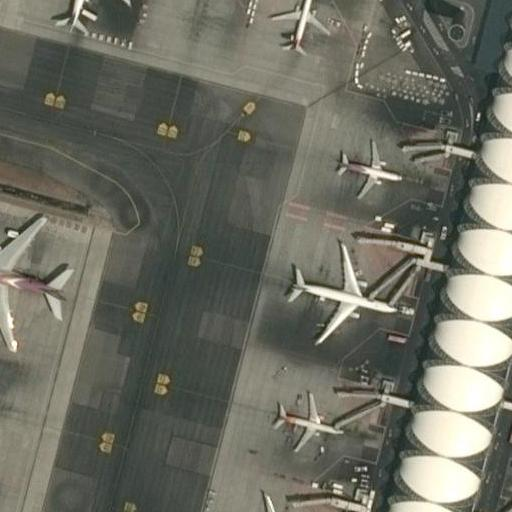Aircraft: (282, 235, 400, 343), (0, 203, 77, 350), (328, 138, 404, 198), (269, 388, 338, 448), (28, 0, 133, 37), (204, 488, 336, 512), (271, 0, 327, 55)
